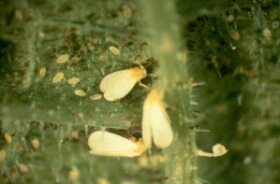whitefly: (141, 88, 174, 150), (98, 63, 148, 100), (87, 128, 145, 157)
